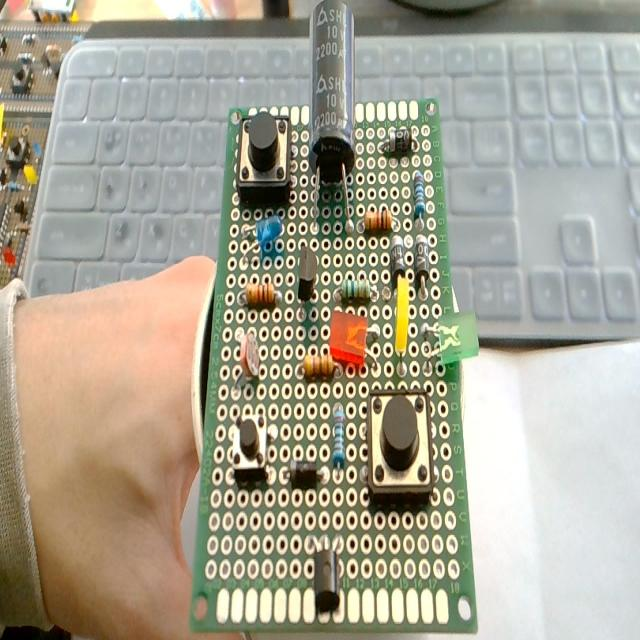Electrolytic capacitor: (303, 0, 360, 230)
cds: (229, 326, 267, 398)
diode: (277, 441, 329, 497), (381, 119, 415, 160), (413, 229, 432, 298), (388, 224, 408, 283)
led: (425, 311, 479, 386), (326, 310, 384, 371), (235, 208, 291, 264), (392, 269, 416, 376)
resistor: (232, 270, 286, 311), (328, 401, 352, 477), (338, 261, 376, 305), (355, 198, 397, 233), (409, 168, 429, 220)
switch: (363, 384, 437, 512), (232, 106, 294, 210), (219, 399, 277, 498)
transistor: (309, 524, 349, 618), (286, 241, 320, 334)
